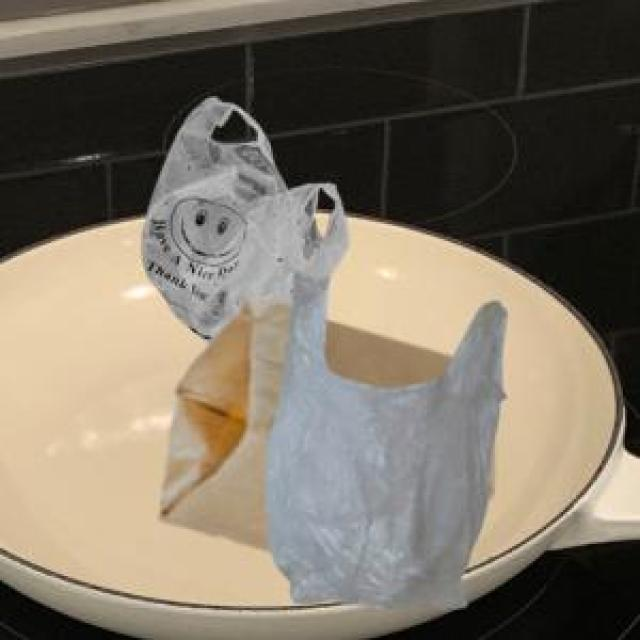paper: (156, 294, 489, 546)
